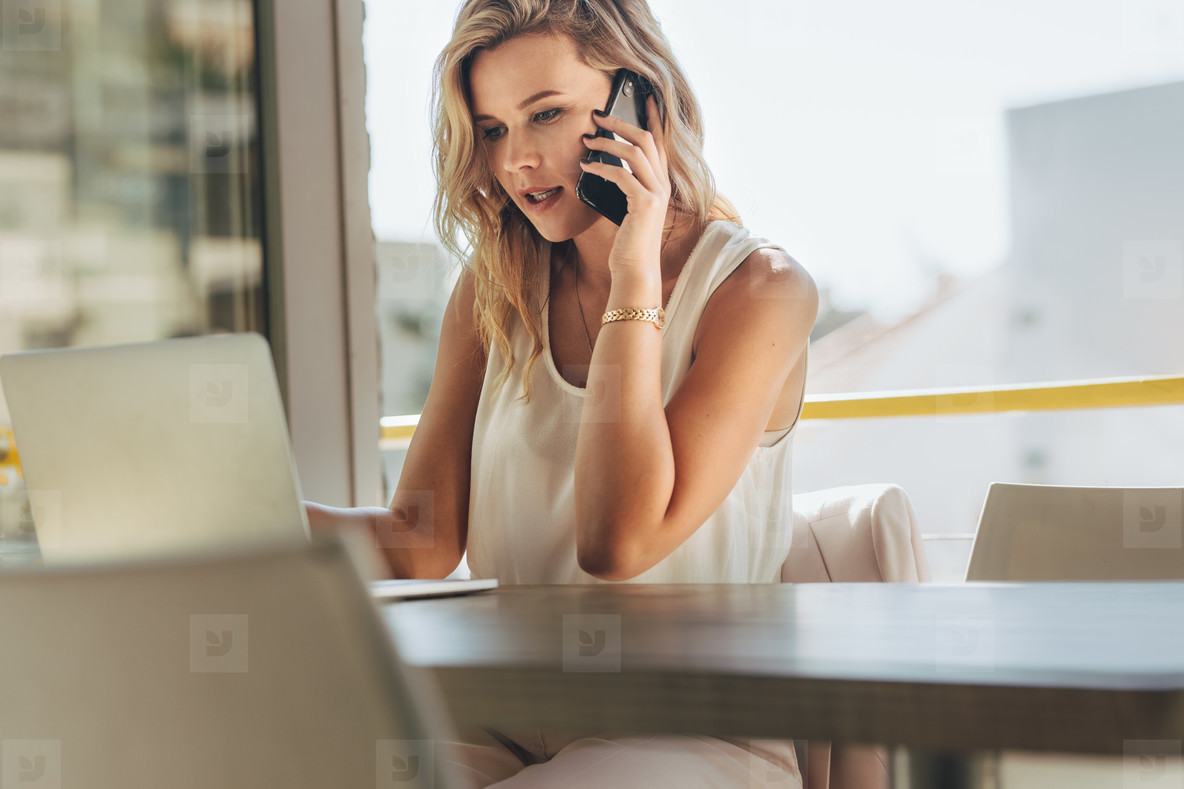phone: (574, 70, 678, 216)
talk: (467, 53, 706, 252)
